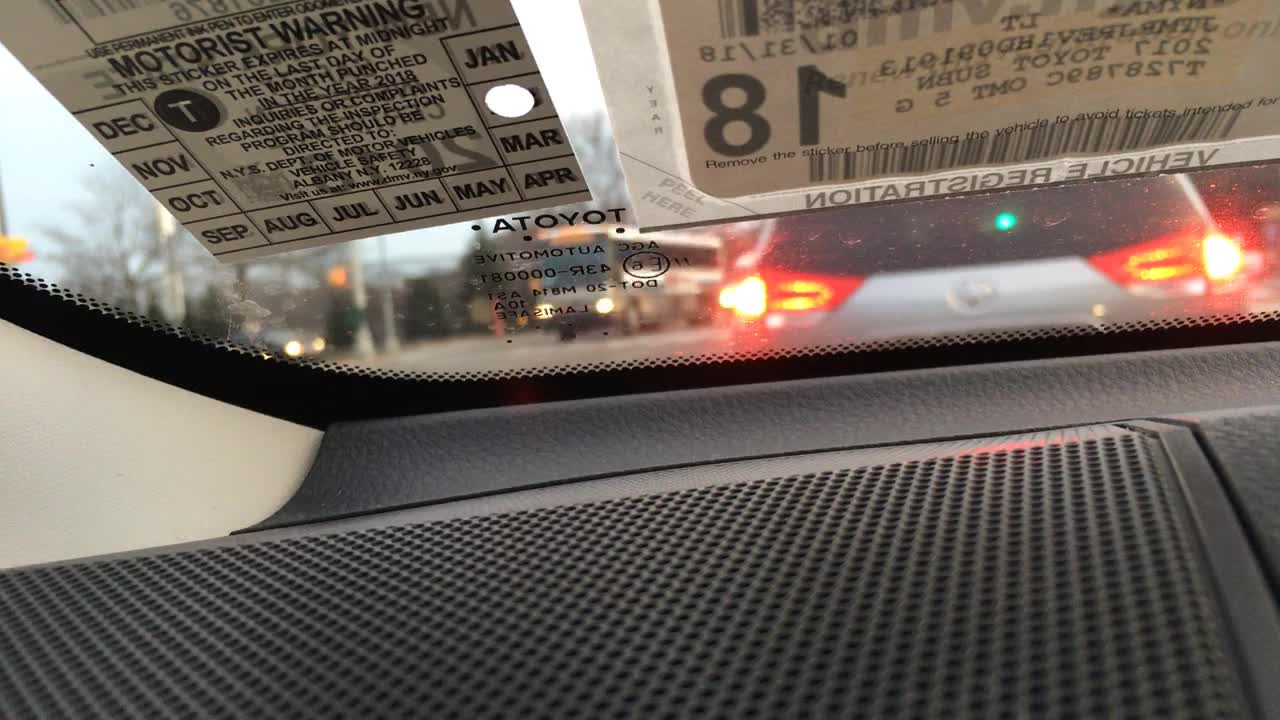bus: (515, 213, 730, 336)
car: (718, 160, 1250, 340), (396, 273, 500, 343), (1200, 198, 1267, 277), (239, 319, 325, 362)
traffic light: (324, 268, 353, 293)
